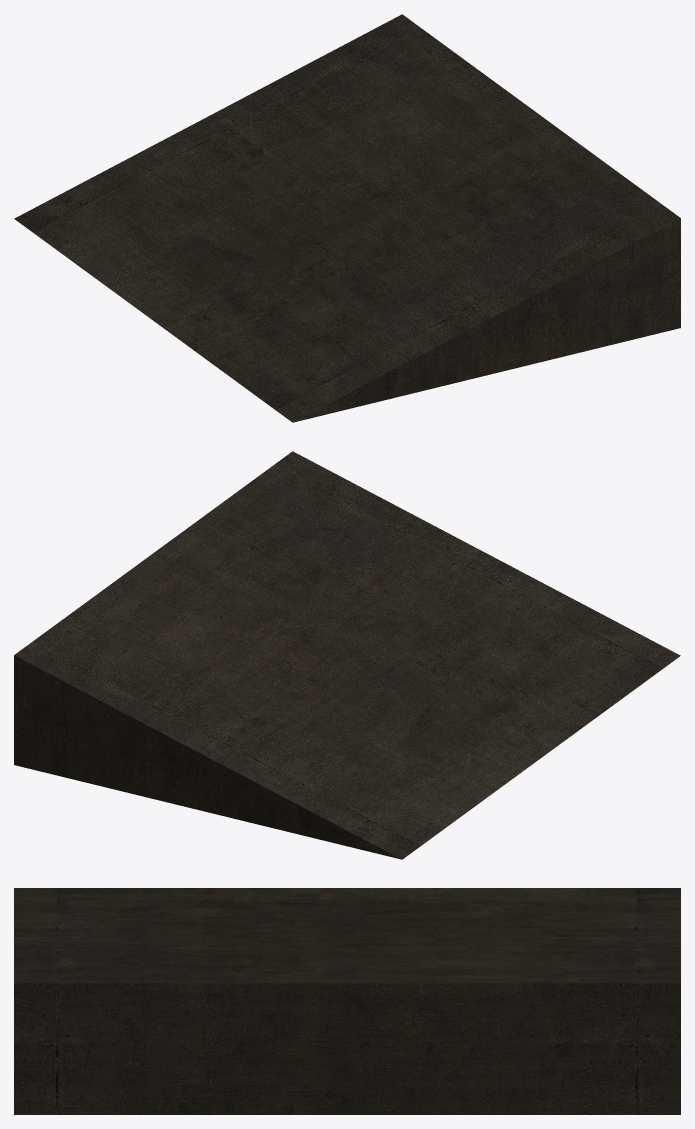
File: ramp_platform_wide_mx_1.glb
The picture shows the model from 3 angles, top to bottom: view 1: azimuth 30°, elevation 25°; view 2: azimuth 150°, elevation 25°; view 3: azimuth 270°, elevation 25°; orthographic projection. The views are drawn at different scales.
Visible parts, largest first — view 1: ramp_platform_wide_mx_1; view 2: ramp_platform_wide_mx_1; view 3: ramp_platform_wide_mx_1.
Part boxes in pixels (box(x1,y1,x2,y2)): ramp_platform_wide_mx_1: box(14, 14, 680, 422); ramp_platform_wide_mx_1: box(14, 451, 680, 859); ramp_platform_wide_mx_1: box(14, 888, 680, 1114).
Bounding box in the file's own units: 3.7 × 1 × 4.6.
Materials: 1 (1 with a texture image).
